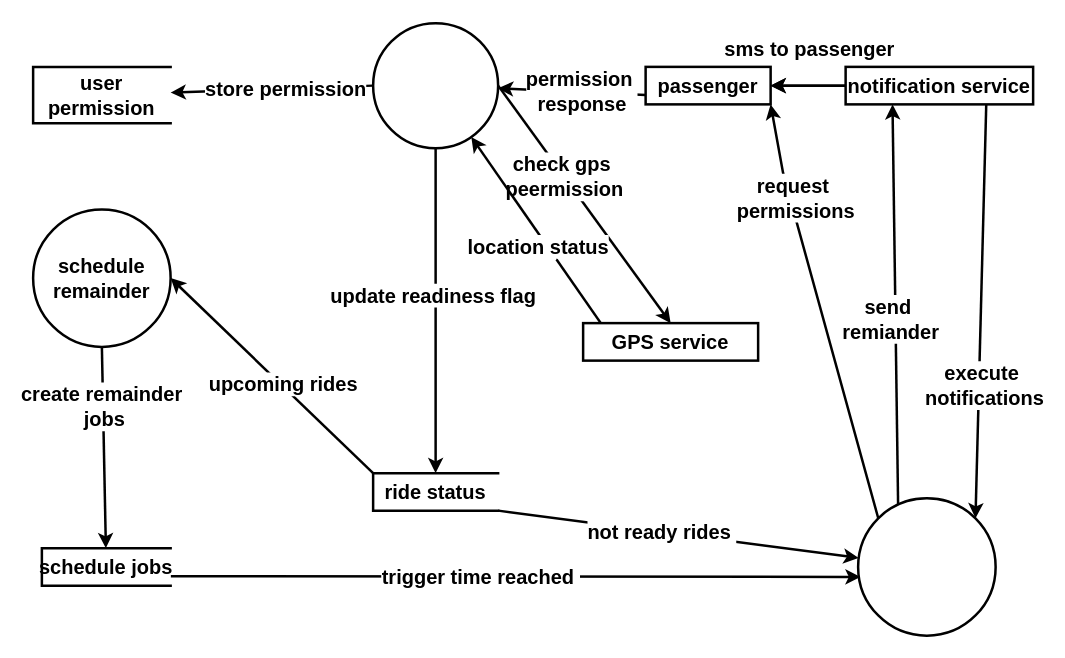
Some shapes in this 1065 by 658 pixel diagram are drawn without their labels. Each missing label, with the centre of its shape:
tigger permission prompt: pixel 926 566
update readyness status: pixel 435 85
